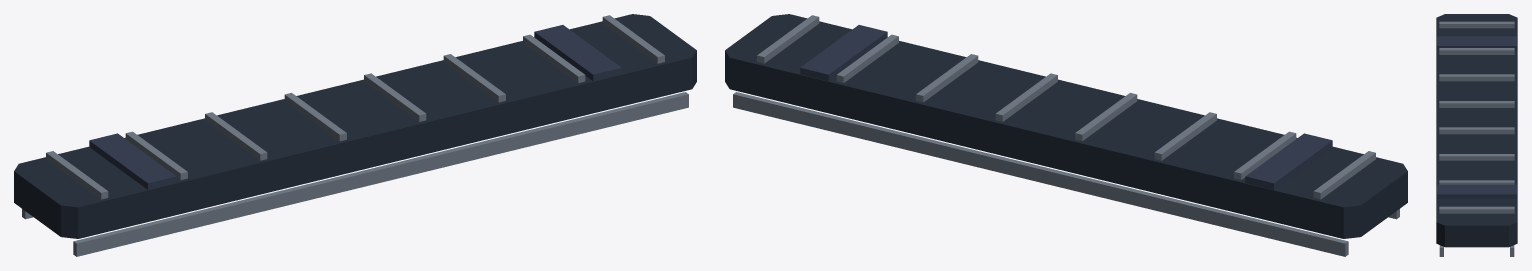
Rendered from fus_highbay_light_strip.glb.
3 views of the same model, side by side, from view 1: azimuth 30°, elevation 25°; view 2: azimuth 150°, elevation 25°; view 3: azimuth 270°, elevation 25° (orthographic). The views are drawn at different scales.
Parts seen in each view (by area): view 1: light_housing, cooling_fin, mounting_clip; view 2: light_housing, cooling_fin, mounting_clip; view 3: light_housing, cooling_fin, mounting_clip.
Part boxes in pixels (x1,y1,x2,y2): light_housing: [14, 14, 696, 238]; cooling_fin: [22, 15, 688, 256]; mounting_clip: [89, 25, 621, 189]; light_housing: [725, 14, 1407, 238]; cooling_fin: [733, 15, 1399, 256]; mounting_clip: [800, 25, 1332, 189]; light_housing: [1436, 14, 1517, 247]; cooling_fin: [1439, 21, 1514, 256]; mounting_clip: [1437, 36, 1516, 198].
Bounding box in the file's own units: 4 × 0.35 × 0.65.
